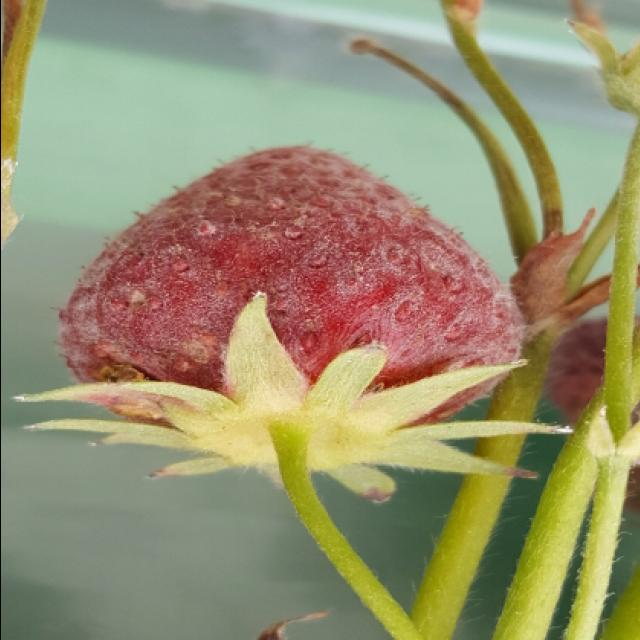Powdery Mildew Fruit: (55, 140, 527, 452)
